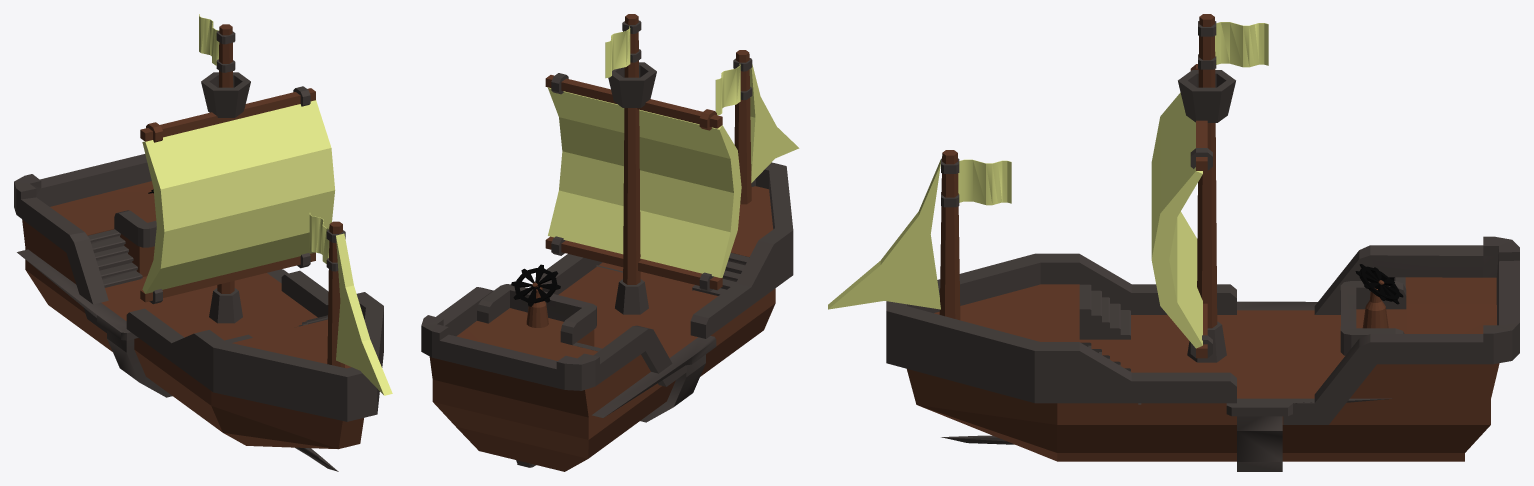
Rendered from BARCO.fbx.
3 renders of one model, left to right at view 1: azimuth 30°, elevation 25°; view 2: azimuth 150°, elevation 25°; view 3: azimuth 270°, elevation 25°, orthographic. The views are drawn at different scales.
Visible parts, largest first — view 1: Barco; view 2: Barco; view 3: Barco.
Part boxes in pixels (<box>): Barco: <box>14,14,392,471</box>; Barco: <box>421,14,799,471</box>; Barco: <box>828,14,1519,471</box>.
Size of the model in its own units: 470 by 891 by 1298.
